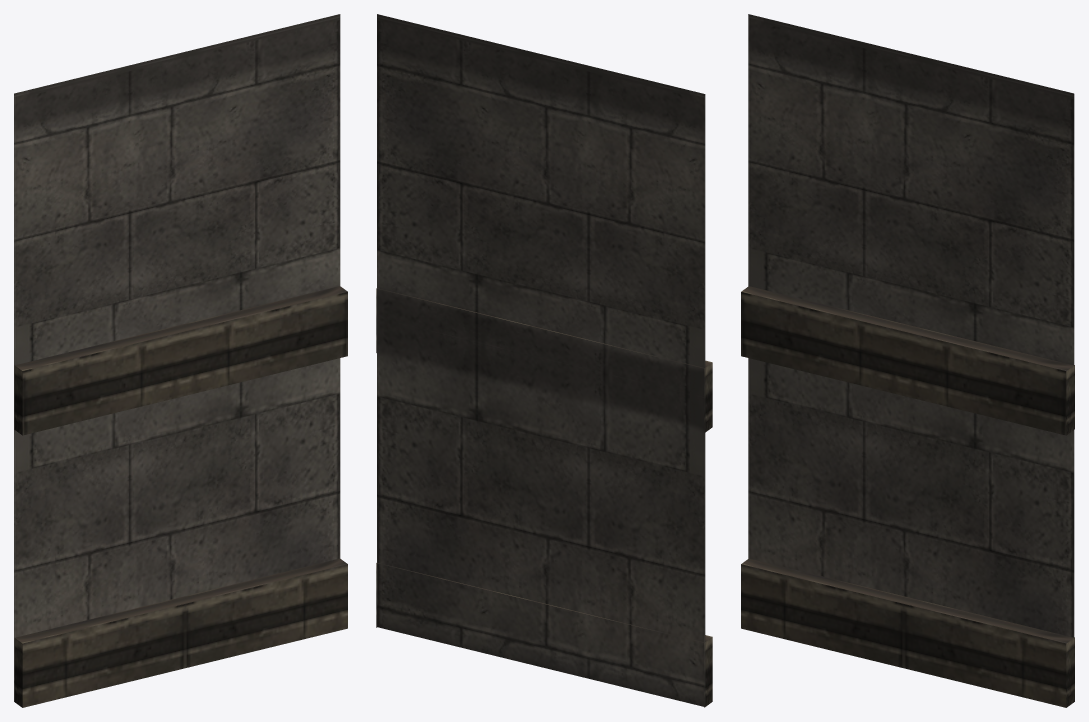
3 renders of one model, left to right at view 1: azimuth 30°, elevation 25°; view 2: azimuth 150°, elevation 25°; view 3: azimuth 330°, elevation 25°, orthographic.
Visible parts, largest first — view 1: object158; view 2: object158; view 3: object158.
Boxes of the visible parts, x1,y1,x2,y2 form: object158: (14,14,347,707); object158: (376,14,712,707); object158: (741,14,1074,707).
Bounding box in the file's own units: 371 × 662 × 16.6.
